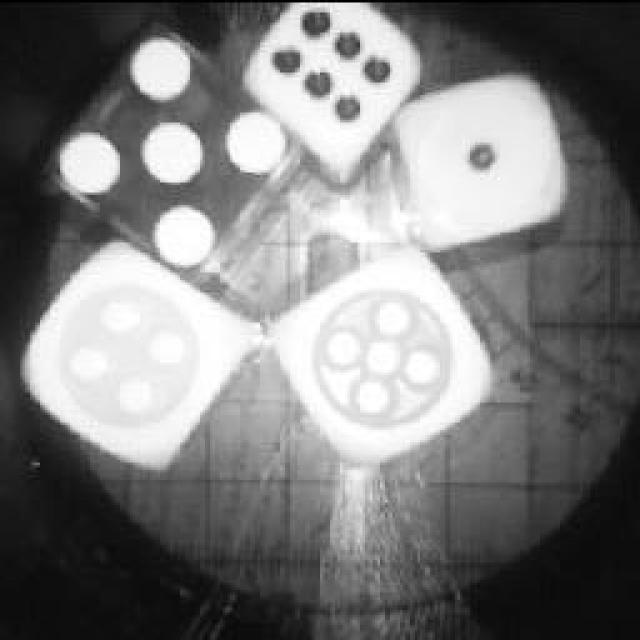dice_1: (382, 62, 572, 252)
dice_4: (10, 233, 272, 485)
dice_5: (40, 15, 305, 283), (270, 232, 502, 468)
dice_6: (240, 0, 425, 178)
